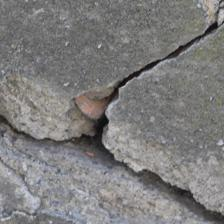Crack: (16, 65, 141, 156), (54, 16, 165, 79), (100, 60, 140, 149)
